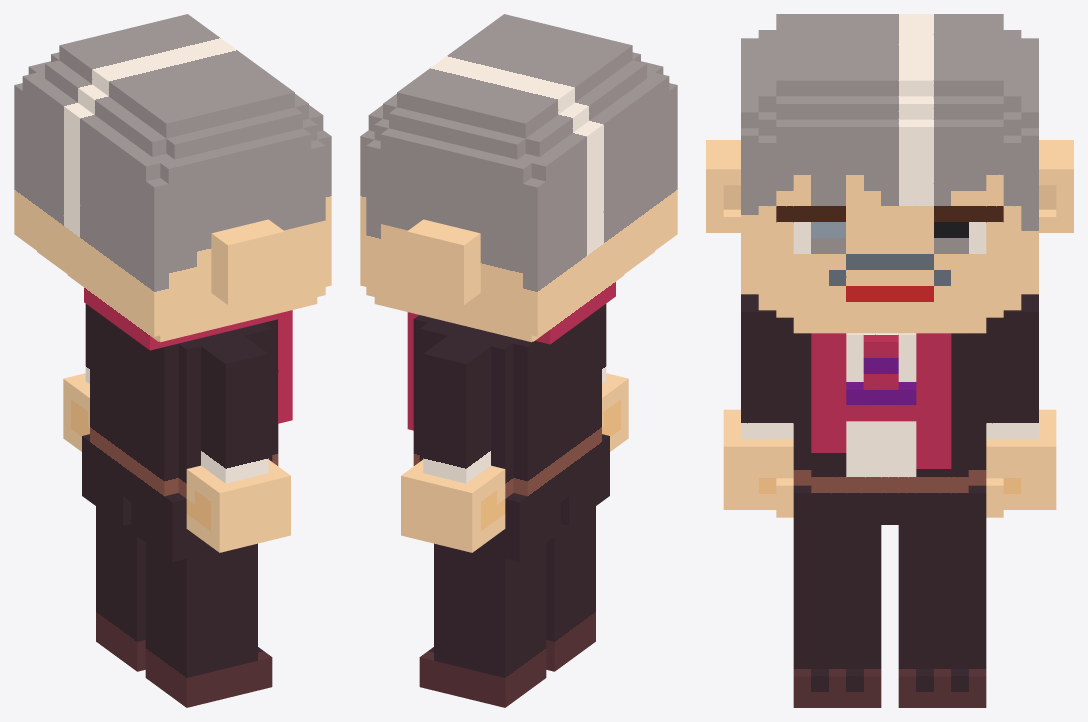
Rendered from 格林德沃.gltf.
3 views of the same model, side by side, from view 1: azimuth 30°, elevation 25°; view 2: azimuth 150°, elevation 25°; view 3: azimuth 270°, elevation 25° (orthographic). The views are drawn at different scales.
Visible parts, largest first — view 1: Object; view 2: Object; view 3: Object.
Boxes of the visible parts, x1,y1,x2,y2 form: Object: [14, 14, 331, 707]; Object: [360, 14, 677, 707]; Object: [706, 14, 1073, 707].
Bounding box in the file's own units: 13 × 40 × 21.
Materials: 1 (1 with a texture image).
